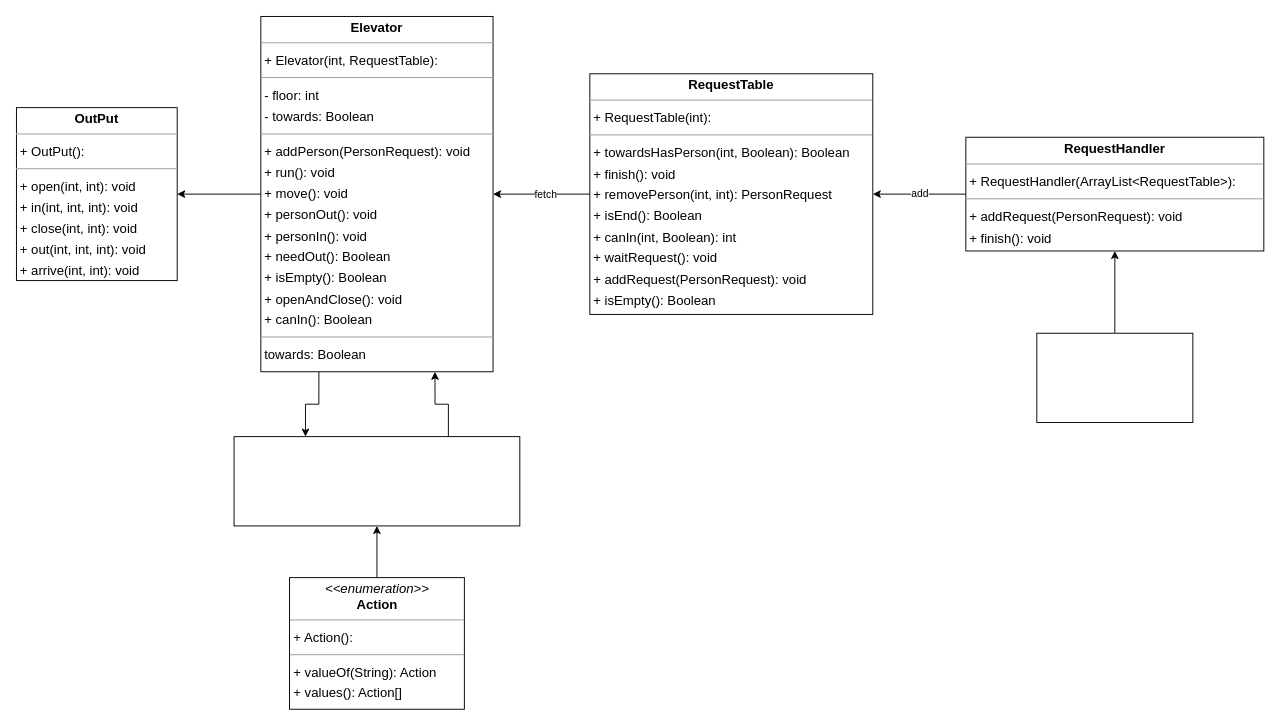
Image size: 1280x726. Some labels were removed from this diagram. The centre of each missing label's shape, as x and y in pixels:
"Main + Main(): + main(String[]): void" goes at (x=1114, y=377).
"Strategy + Strategy(): + getAction(Elevator, RequestTable): Action" goes at (x=376, y=481).
